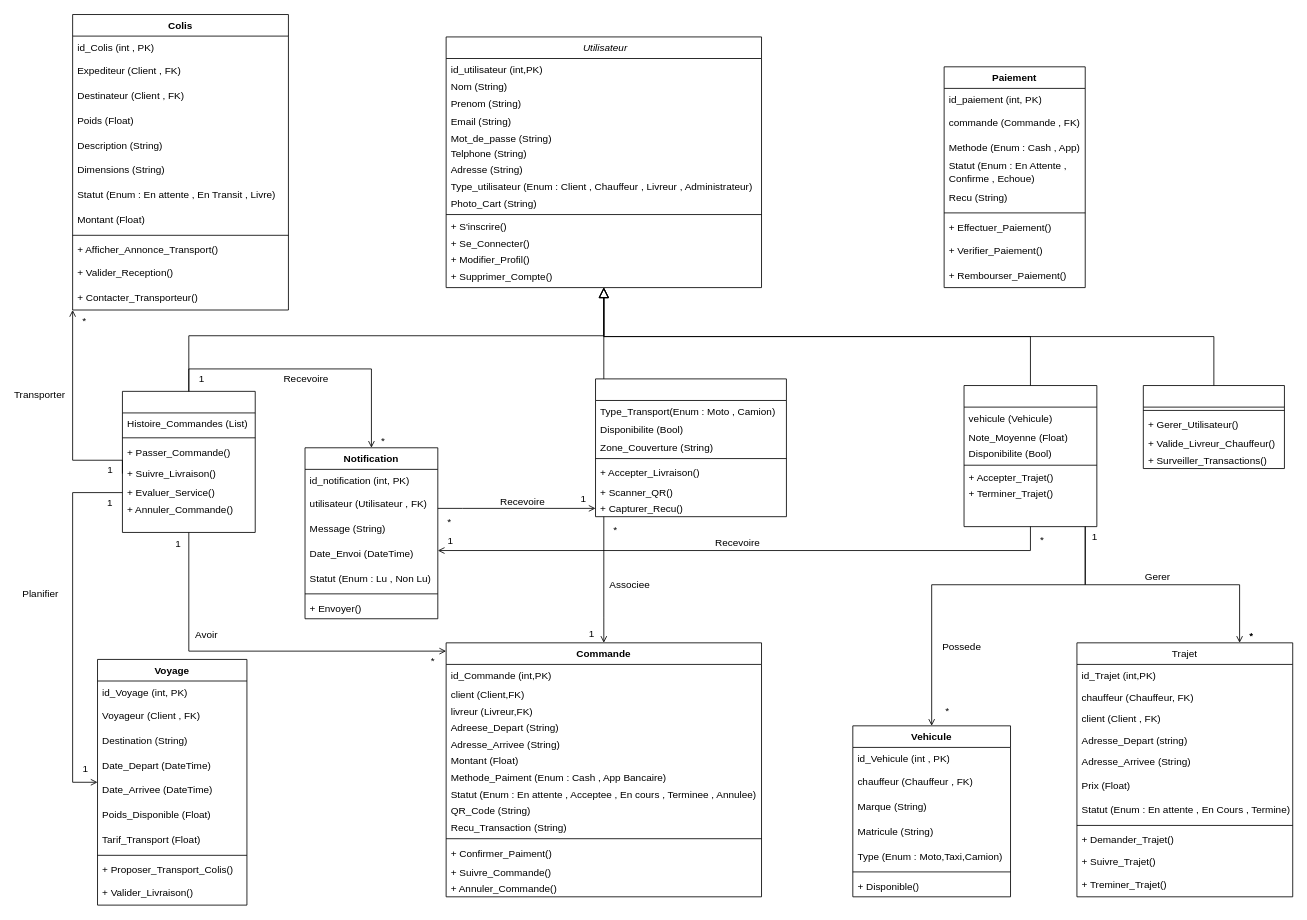
This 1307x920 diagram has some shape labels left out. The shapes that lost their labels are listed below. From the top down, each one's box as (x1, y1, x2, y2) in pixels, then its label:
(1142, 385, 1284, 469): Administrateur
(122, 391, 255, 532): Client
(595, 378, 786, 517): Livreur
(963, 385, 1097, 527): Chauffeur
